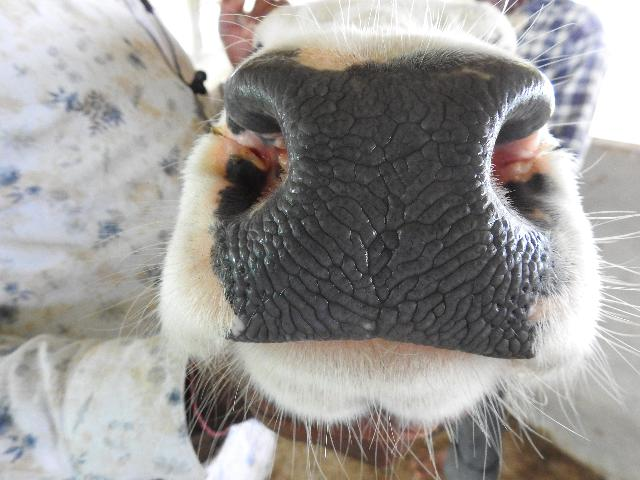Muzzle: (264, 70, 506, 360)
